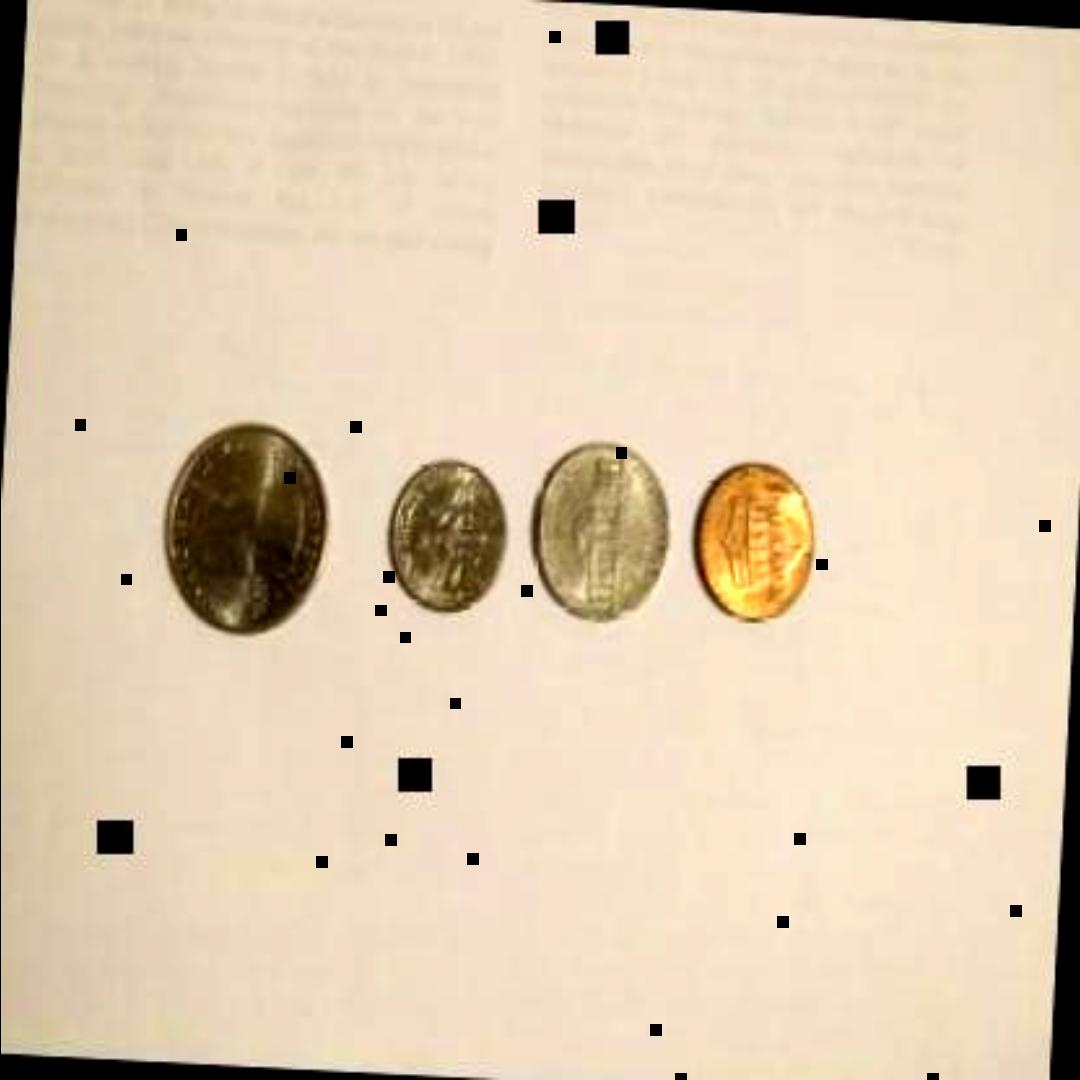Dime: (382, 457, 512, 623)
Nickel: (528, 433, 680, 635)
Penny: (689, 460, 821, 631)
Quarter: (160, 414, 336, 638)
